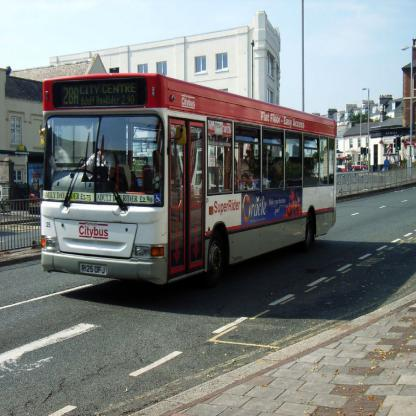Bus: (40, 73, 337, 286)
Car: (351, 159, 367, 170)
